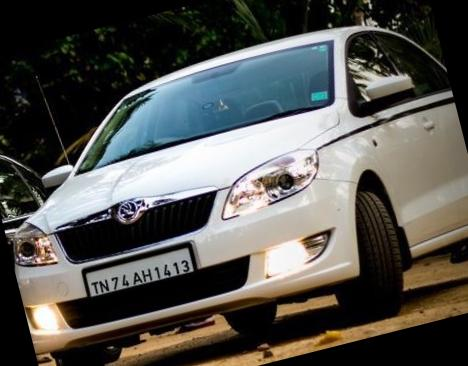plate: (73, 226, 212, 319)
